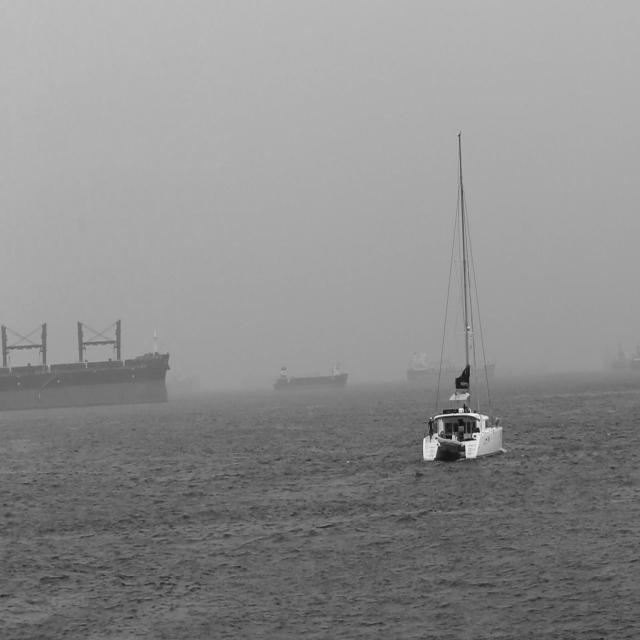boat: (421, 128, 504, 462)
ship: (1, 320, 170, 404), (407, 353, 496, 381), (275, 364, 351, 389), (612, 342, 638, 376)
